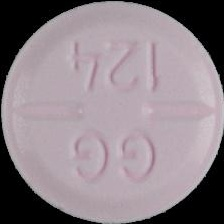58118-1393: (0, 0, 224, 224)
